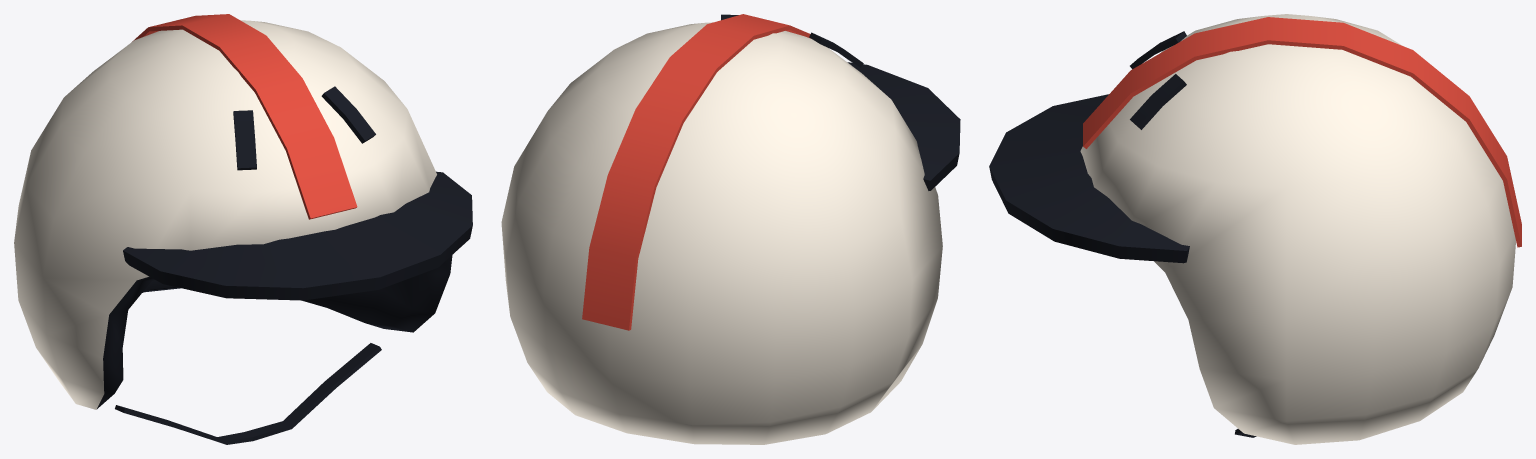
File: helmet_open.glb
3 views of the same model, side by side, from view 1: azimuth 30°, elevation 25°; view 2: azimuth 150°, elevation 25°; view 3: azimuth 270°, elevation 25° (orthographic).
Visible parts, largest first — view 1: helmet_open; view 2: helmet_open; view 3: helmet_open.
Boxes of the visible parts, left/top/right/bottom form: helmet_open: left=14, top=14, right=472, bottom=444; helmet_open: left=501, top=14, right=960, bottom=444; helmet_open: left=989, top=14, right=1521, bottom=444.
Bounding box in the file's own units: 0.407 × 0.4013 × 0.4842.
